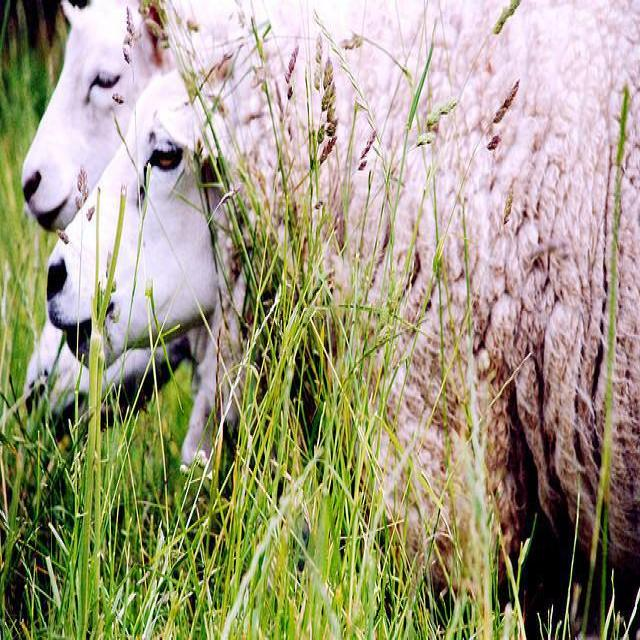Sheep: (48, 0, 639, 633), (17, 0, 361, 235), (22, 298, 259, 468)
